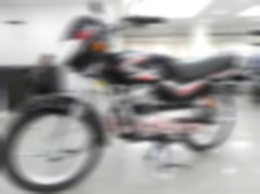Vehicle: (0, 0, 239, 193)
